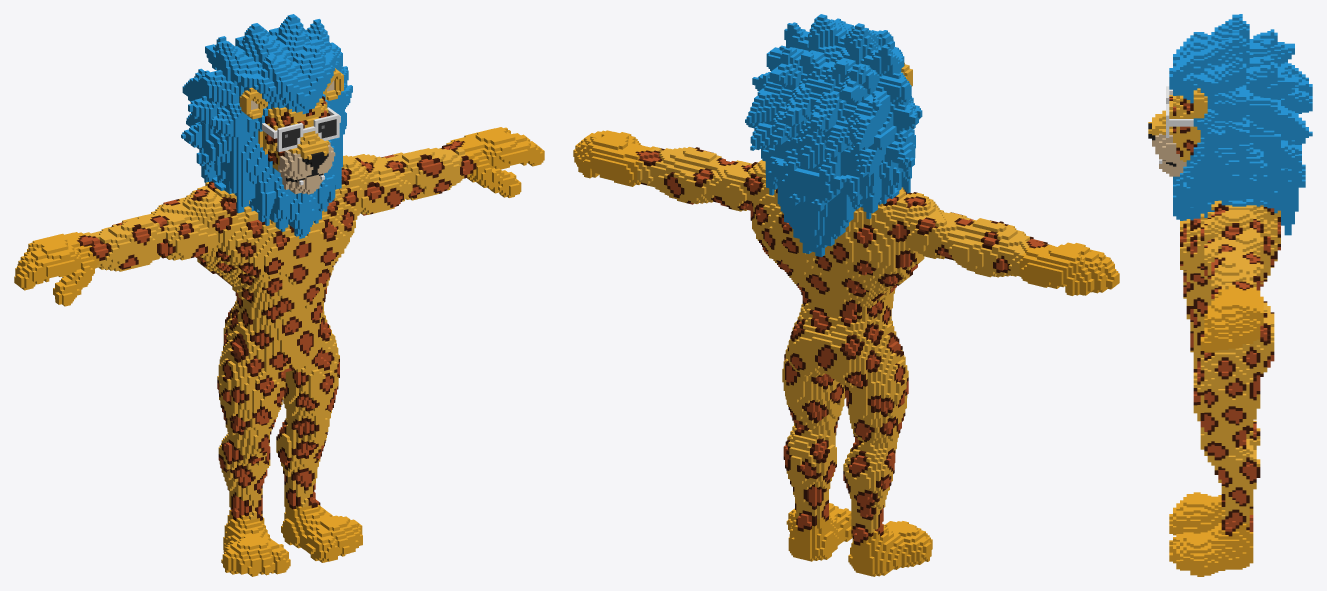
File: 530-BS-fxNFj.glb
3 renders of one model, left to right at view 1: azimuth 30°, elevation 25°; view 2: azimuth 150°, elevation 25°; view 3: azimuth 270°, elevation 25°, orthographic. The views are drawn at different scales.
Visible parts, largest first — view 1: standard; view 2: standard; view 3: standard.
Boxes of the visible parts, left/top/right/bottom form: standard: left=14, top=14, right=544, bottom=576; standard: left=573, top=14, right=1119, bottom=576; standard: left=1148, top=14, right=1312, bottom=576.
Size of the model in its own units: 17.2 by 16.5 by 4.7.
4 materials, 4 textured.
